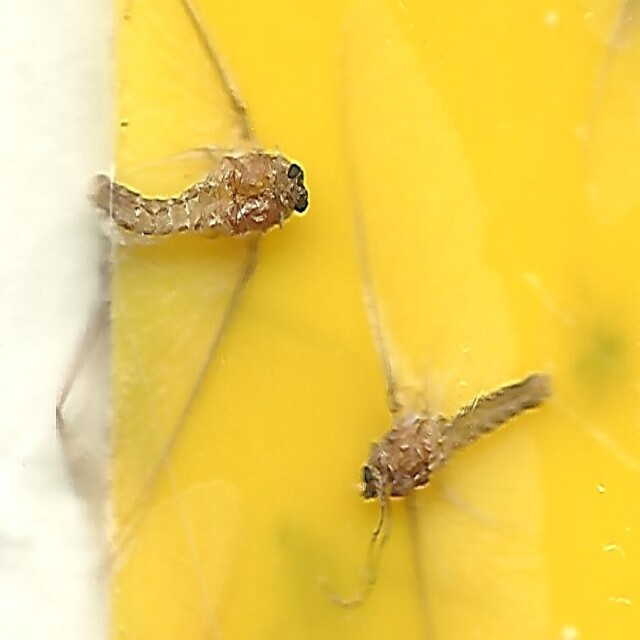Ephemeroptera: (361, 368, 555, 496), (85, 144, 315, 246)
